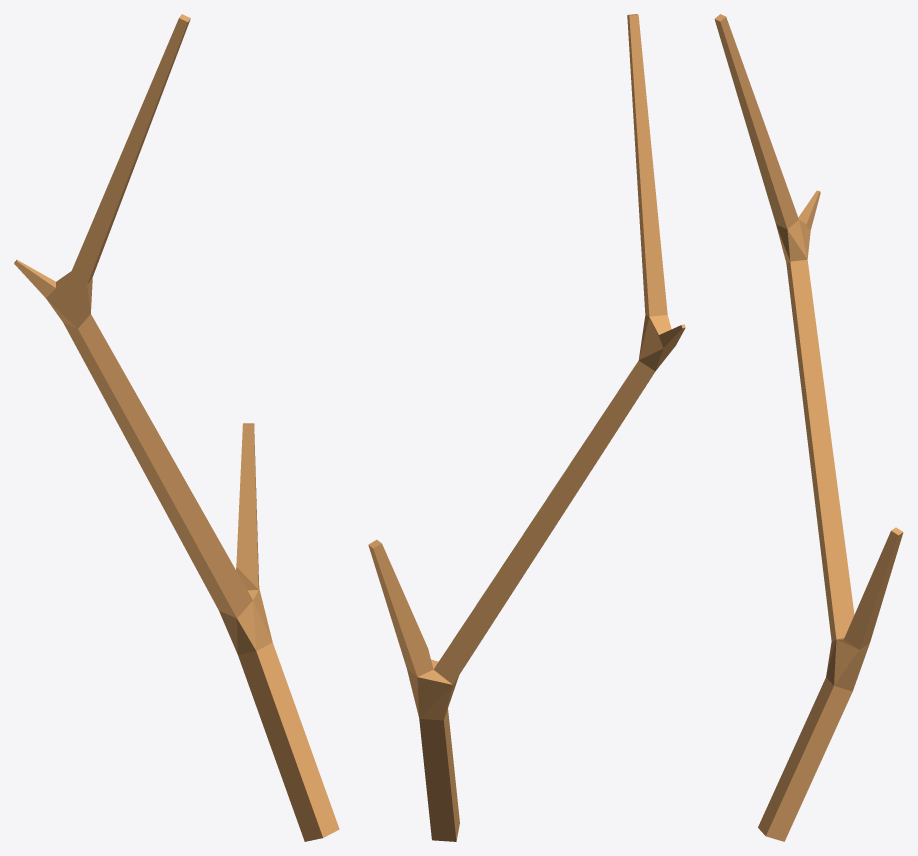
Rendered from stick_01_break_palm.fbx.
3 renders of one model, left to right at view 1: azimuth 30°, elevation 25°; view 2: azimuth 150°, elevation 25°; view 3: azimuth 270°, elevation 25°, orthographic. The views are drawn at different scales.
Parts seen in each view (by area): view 1: stick_01; view 2: stick_01; view 3: stick_01.
Boxes of the visible parts, <box> form: stick_01: <box>14,14,339,841</box>; stick_01: <box>368,14,685,841</box>; stick_01: <box>714,14,903,841</box>.
Size of the model in its own units: 18.43 by 53.01 by 12.06.
